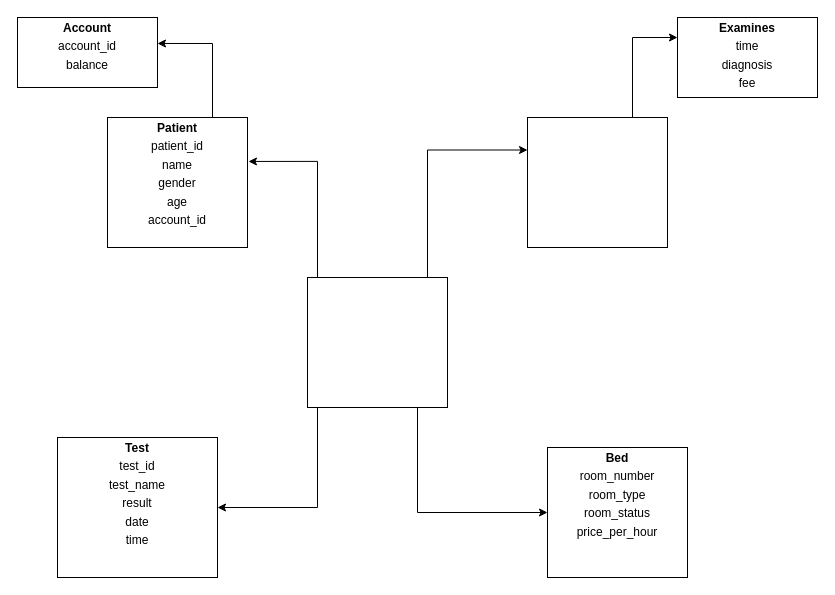
Some shapes in this 835 by 595 pixel diagram are drawn without their labels. The centre of each missing label's shape, as x and y in pixels:
"Doctor doctor_id name specialisation phone_number examines_id" belongs at (597,182).
"Hospital room_number doctor_id patent_id test_id revenue" belongs at (377,342).
